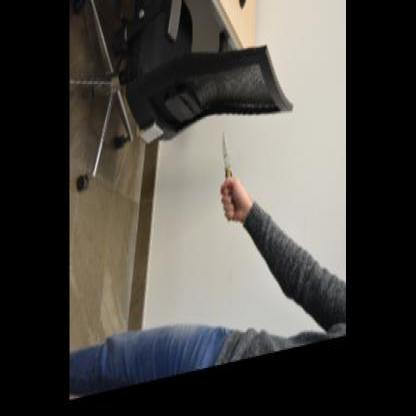knife: (219, 132, 236, 234)
